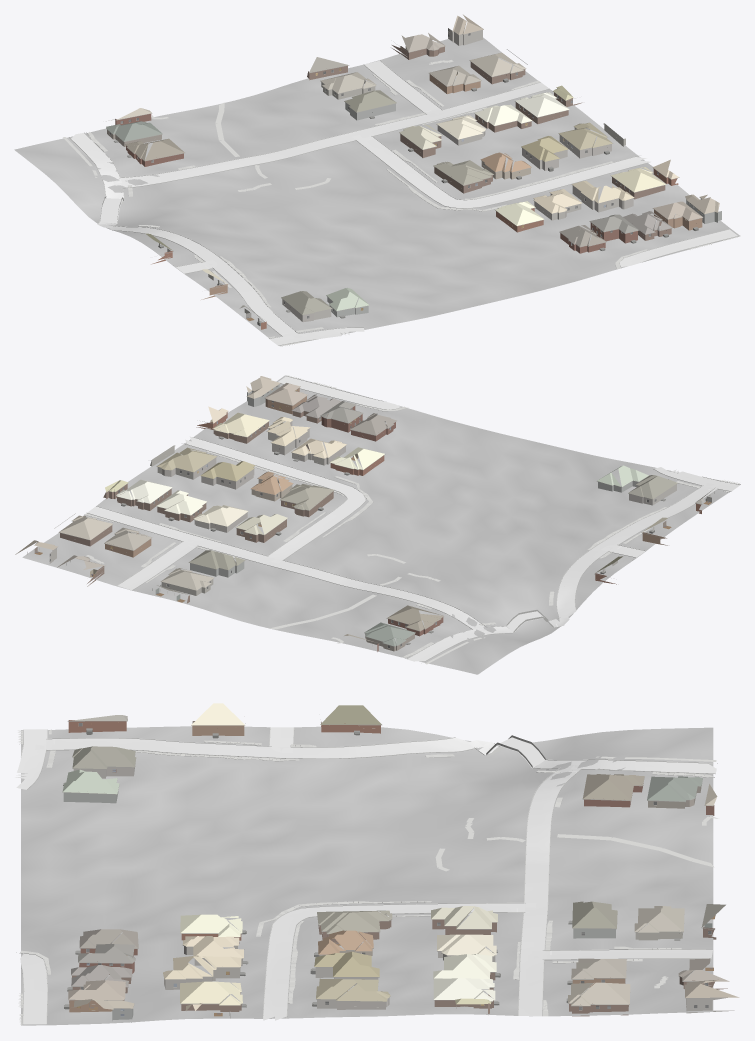
The picture shows the model from 3 angles, top to bottom: view 1: azimuth 30°, elevation 25°; view 2: azimuth 150°, elevation 25°; view 3: azimuth 270°, elevation 25°; orthographic projection. The views are drawn at different scales.
Visible parts, largest first — view 1: ground, roof, concrete, wall, walk, curb, wall_stone, detail, wall_stucco; view 2: ground, roof, concrete, wall, walk, curb, wall_stone, detail, wall_stucco; view 3: ground, roof, concrete, wall, walk, curb, wall_stone, detail, wall_stucco, asphalt.
Part boxes in pixels (x1,y1,x2,y2): ground: [14, 37, 739, 346]; roof: [106, 14, 719, 318]; concrete: [71, 60, 737, 345]; wall: [107, 45, 702, 329]; walk: [63, 60, 740, 346]; curb: [69, 60, 737, 345]; wall_stone: [282, 28, 633, 322]; detail: [106, 29, 717, 326]; wall_stucco: [321, 82, 721, 317]; ground: [22, 375, 740, 674]; roof: [15, 376, 714, 646]; concrete: [87, 376, 739, 661]; wall: [60, 388, 701, 651]; walk: [85, 375, 739, 664]; curb: [84, 376, 740, 663]; wall_stone: [49, 421, 676, 563]; detail: [26, 383, 714, 648]; wall_stucco: [150, 384, 641, 595]; ground: [21, 726, 713, 1025]; roof: [62, 703, 739, 1010]; concrete: [15, 727, 716, 1024]; wall: [68, 720, 727, 1016]; walk: [18, 729, 718, 1025]; curb: [16, 727, 717, 1023]; wall_stone: [73, 767, 734, 1013]; detail: [62, 721, 726, 1018]; wall_stucco: [63, 791, 682, 1022]; asphalt: [497, 737, 544, 768].
Bounding box in the file's own units: 265 × 20.63 × 263.
